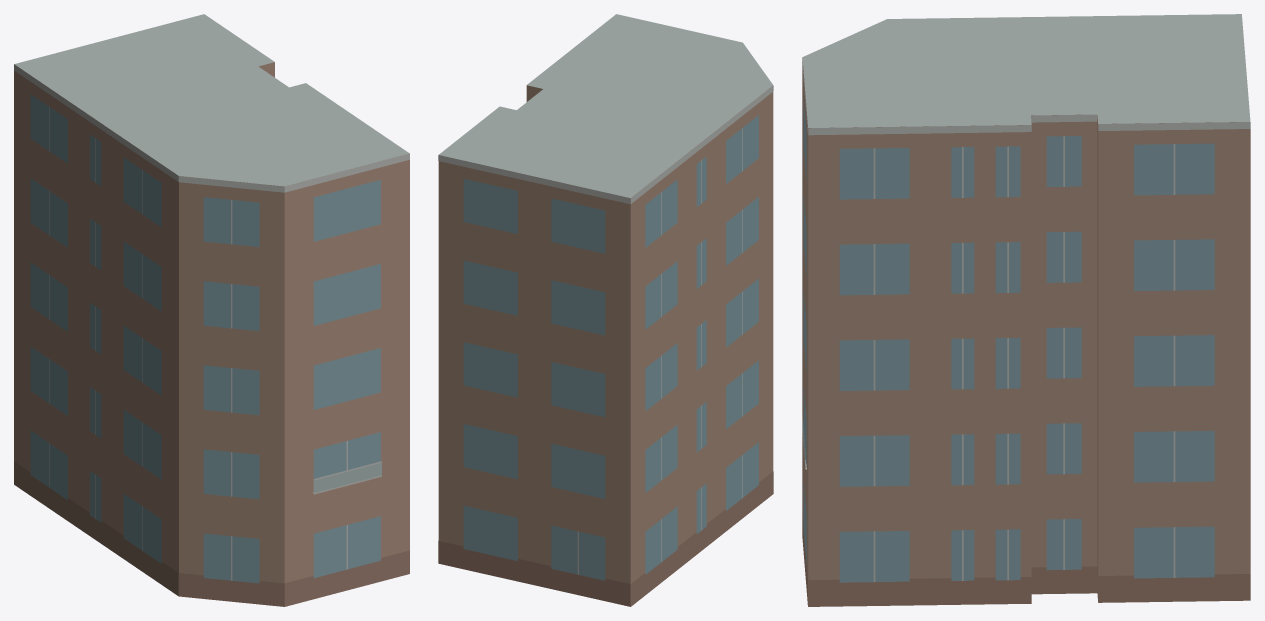
File: survey-upis-32906359.glb
3 views of the same model, side by side, from view 1: azimuth 30°, elevation 25°; view 2: azimuth 150°, elevation 25°; view 3: azimuth 270°, elevation 25° (orthographic). The views are drawn at different scales.
Parts seen in each view (by area): view 1: survey-upis-32906359.tmp; view 2: survey-upis-32906359.tmp; view 3: survey-upis-32906359.tmp.
Part boxes in pixels (left/top/right/bottom): survey-upis-32906359.tmp: left=14, top=14, right=409, bottom=606; survey-upis-32906359.tmp: left=438, top=14, right=773, bottom=606; survey-upis-32906359.tmp: left=802, top=14, right=1250, bottom=606.
Size of the model in its own units: 8.36 by 16.35 by 13.88.
